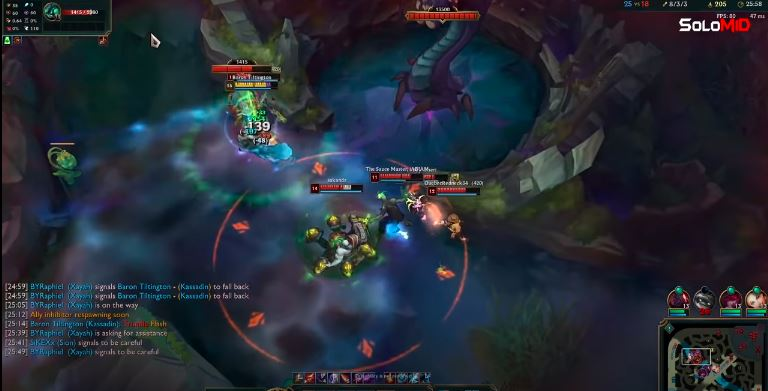bar: (307, 180, 365, 195), (367, 169, 426, 182), (395, 173, 452, 186), (422, 187, 482, 198), (220, 73, 288, 82), (220, 81, 281, 91)
